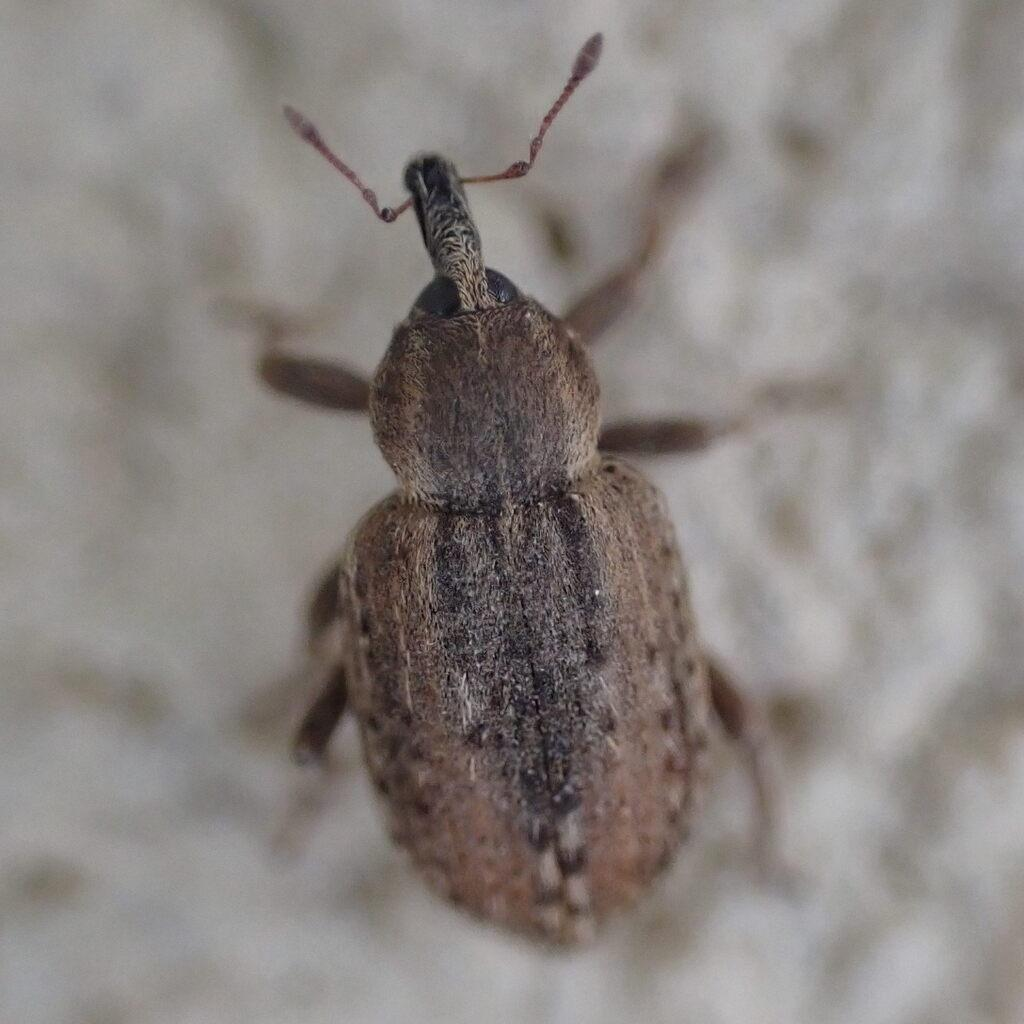weevils: (104, 6, 940, 1024)
